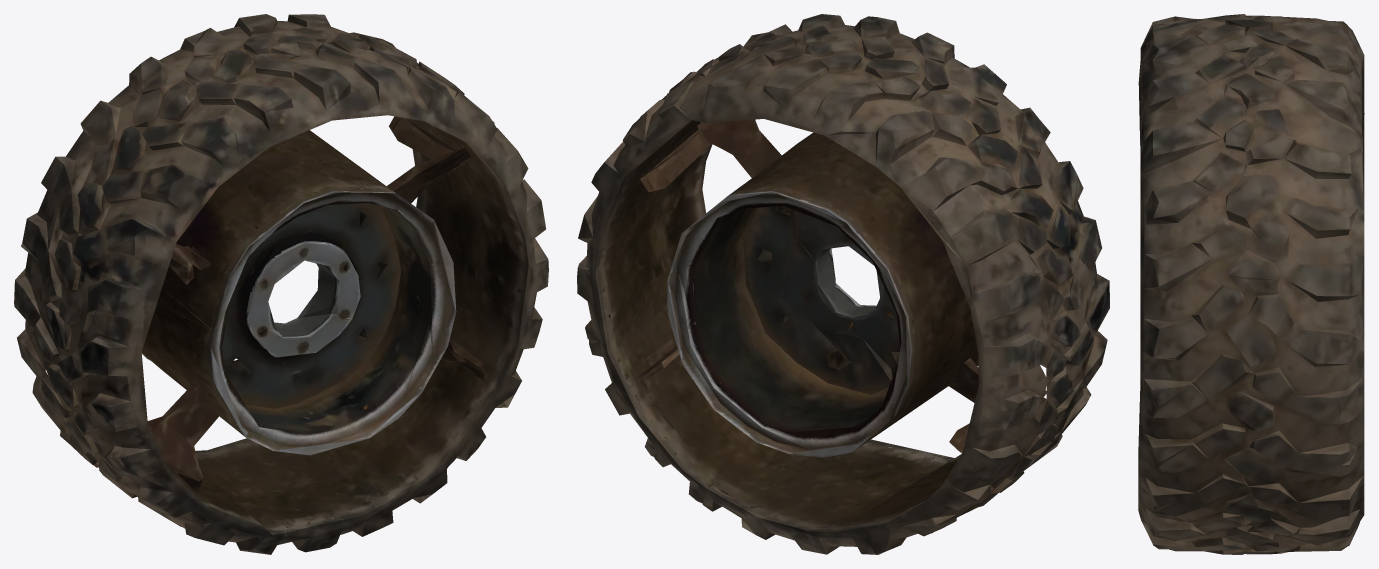
The model's file is decor.buggy_wheel.glb.
3 views of the same model, side by side, from view 1: azimuth 30°, elevation 25°; view 2: azimuth 150°, elevation 25°; view 3: azimuth 270°, elevation 25° (orthographic). The views are drawn at different scales.
Visible parts, largest first — view 1: body; view 2: body; view 3: body.
Boxes of the visible parts, <box> form: body: <box>14,14,548,554</box>; body: <box>577,14,1109,554</box>; body: <box>1138,14,1364,554</box>.
Size of the model in its own units: 1.44 by 1.43 by 0.6001.
Materials: 1 (1 with a texture image).
